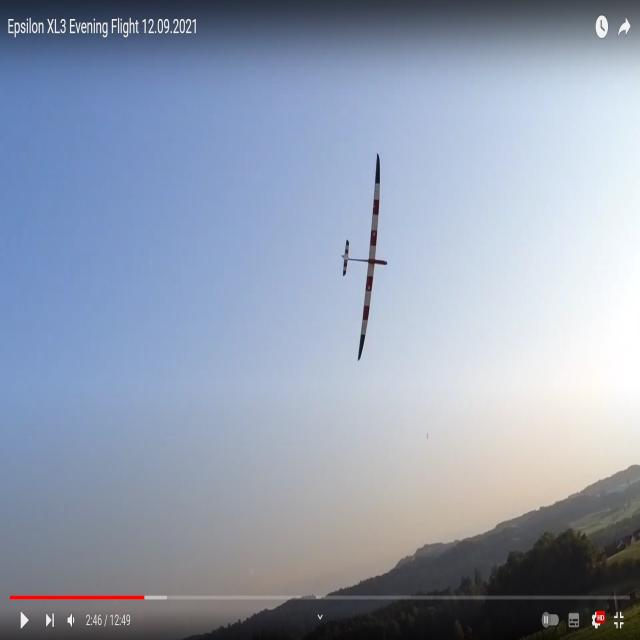iha: (342, 156, 387, 361)
